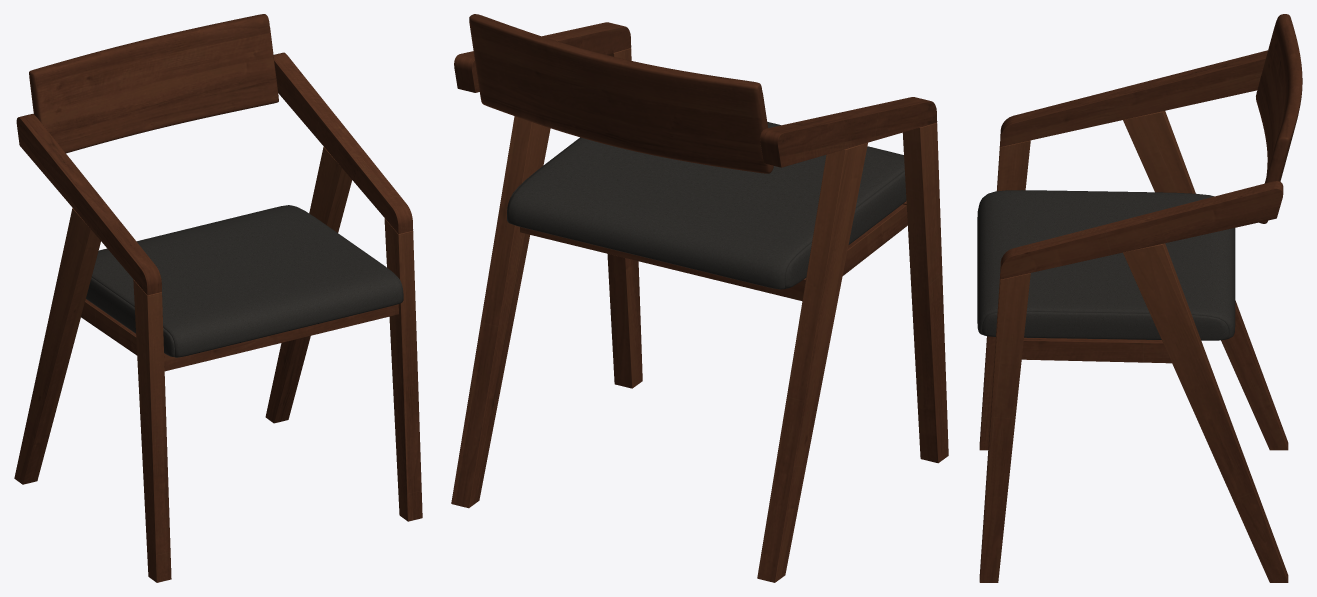
File: chair.glb
The picture shows the model from 3 angles, left to right: view 1: azimuth 30°, elevation 25°; view 2: azimuth 150°, elevation 25°; view 3: azimuth 270°, elevation 25°; orthographic projection. The views are drawn at different scales.
Parts seen in each view (by area): view 1: Plane_Plane.001; view 2: Plane_Plane.001; view 3: Plane_Plane.001.
Boxes of the visible parts, x1=… form: Plane_Plane.001: x1=14, y1=14, x2=422, y2=582; Plane_Plane.001: x1=451, y1=14, x2=948, y2=582; Plane_Plane.001: x1=977, y1=14, x2=1302, y2=582.
Size of the model in its own units: 0.5156 by 0.7492 by 0.5048.
1 material, 1 textured.
